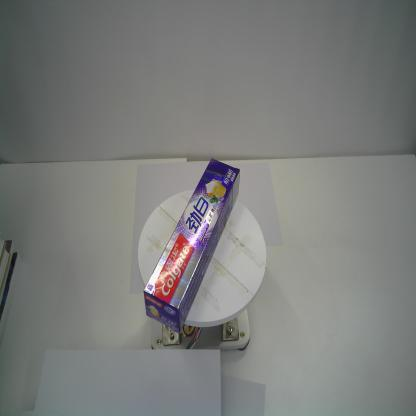Personal Hygiene: (143, 158, 241, 335)
